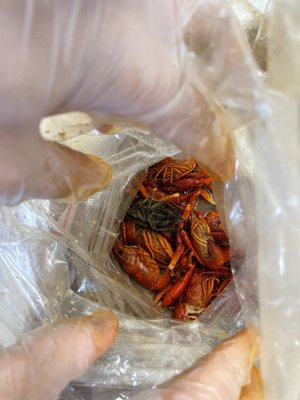pizza: (0, 1, 300, 348)
